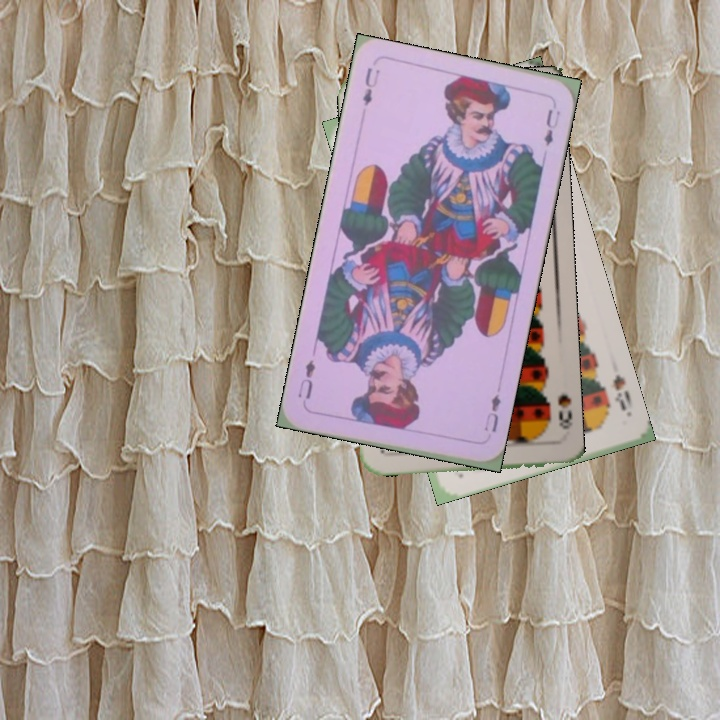EU: (480, 384, 503, 435), (358, 63, 383, 109)
S8: (554, 390, 575, 432), (609, 371, 629, 414)
